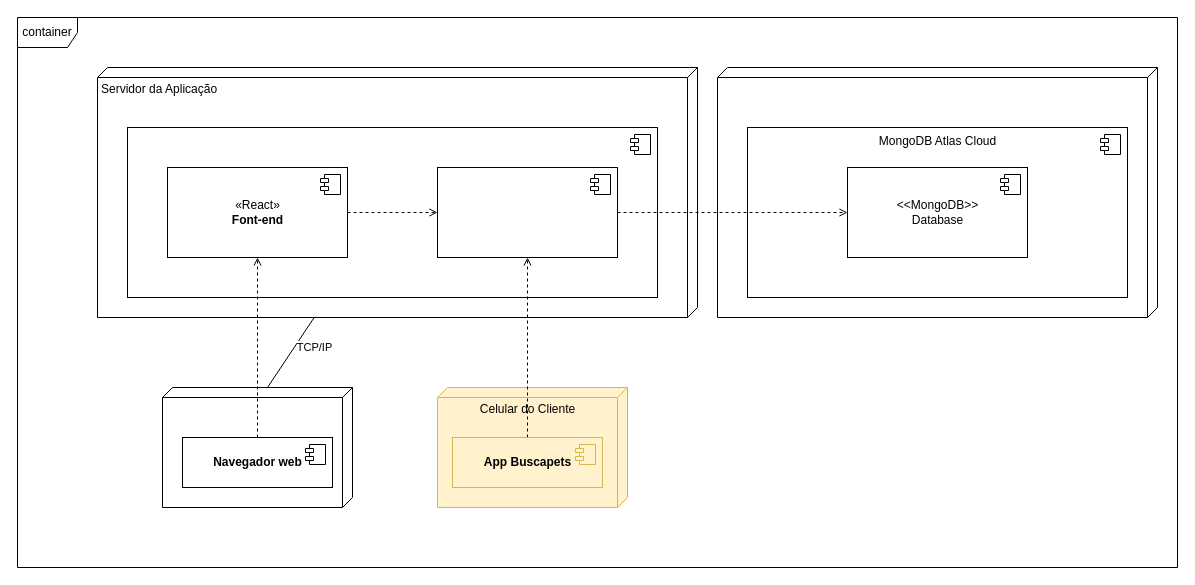
The diagram is 1195 pixels wide and 585 high, and some of its shapes have lost their labels. Here are the shapes that lost their labels. From the top down, the box of each, then its label:
(126, 126, 658, 298): NodeJS
(436, 166, 618, 258): «API» <<ExpressJS + JWT>> back-end
(716, 66, 1158, 318): Servidor MongoDB
(162, 386, 352, 508): Máquina do Cliente
